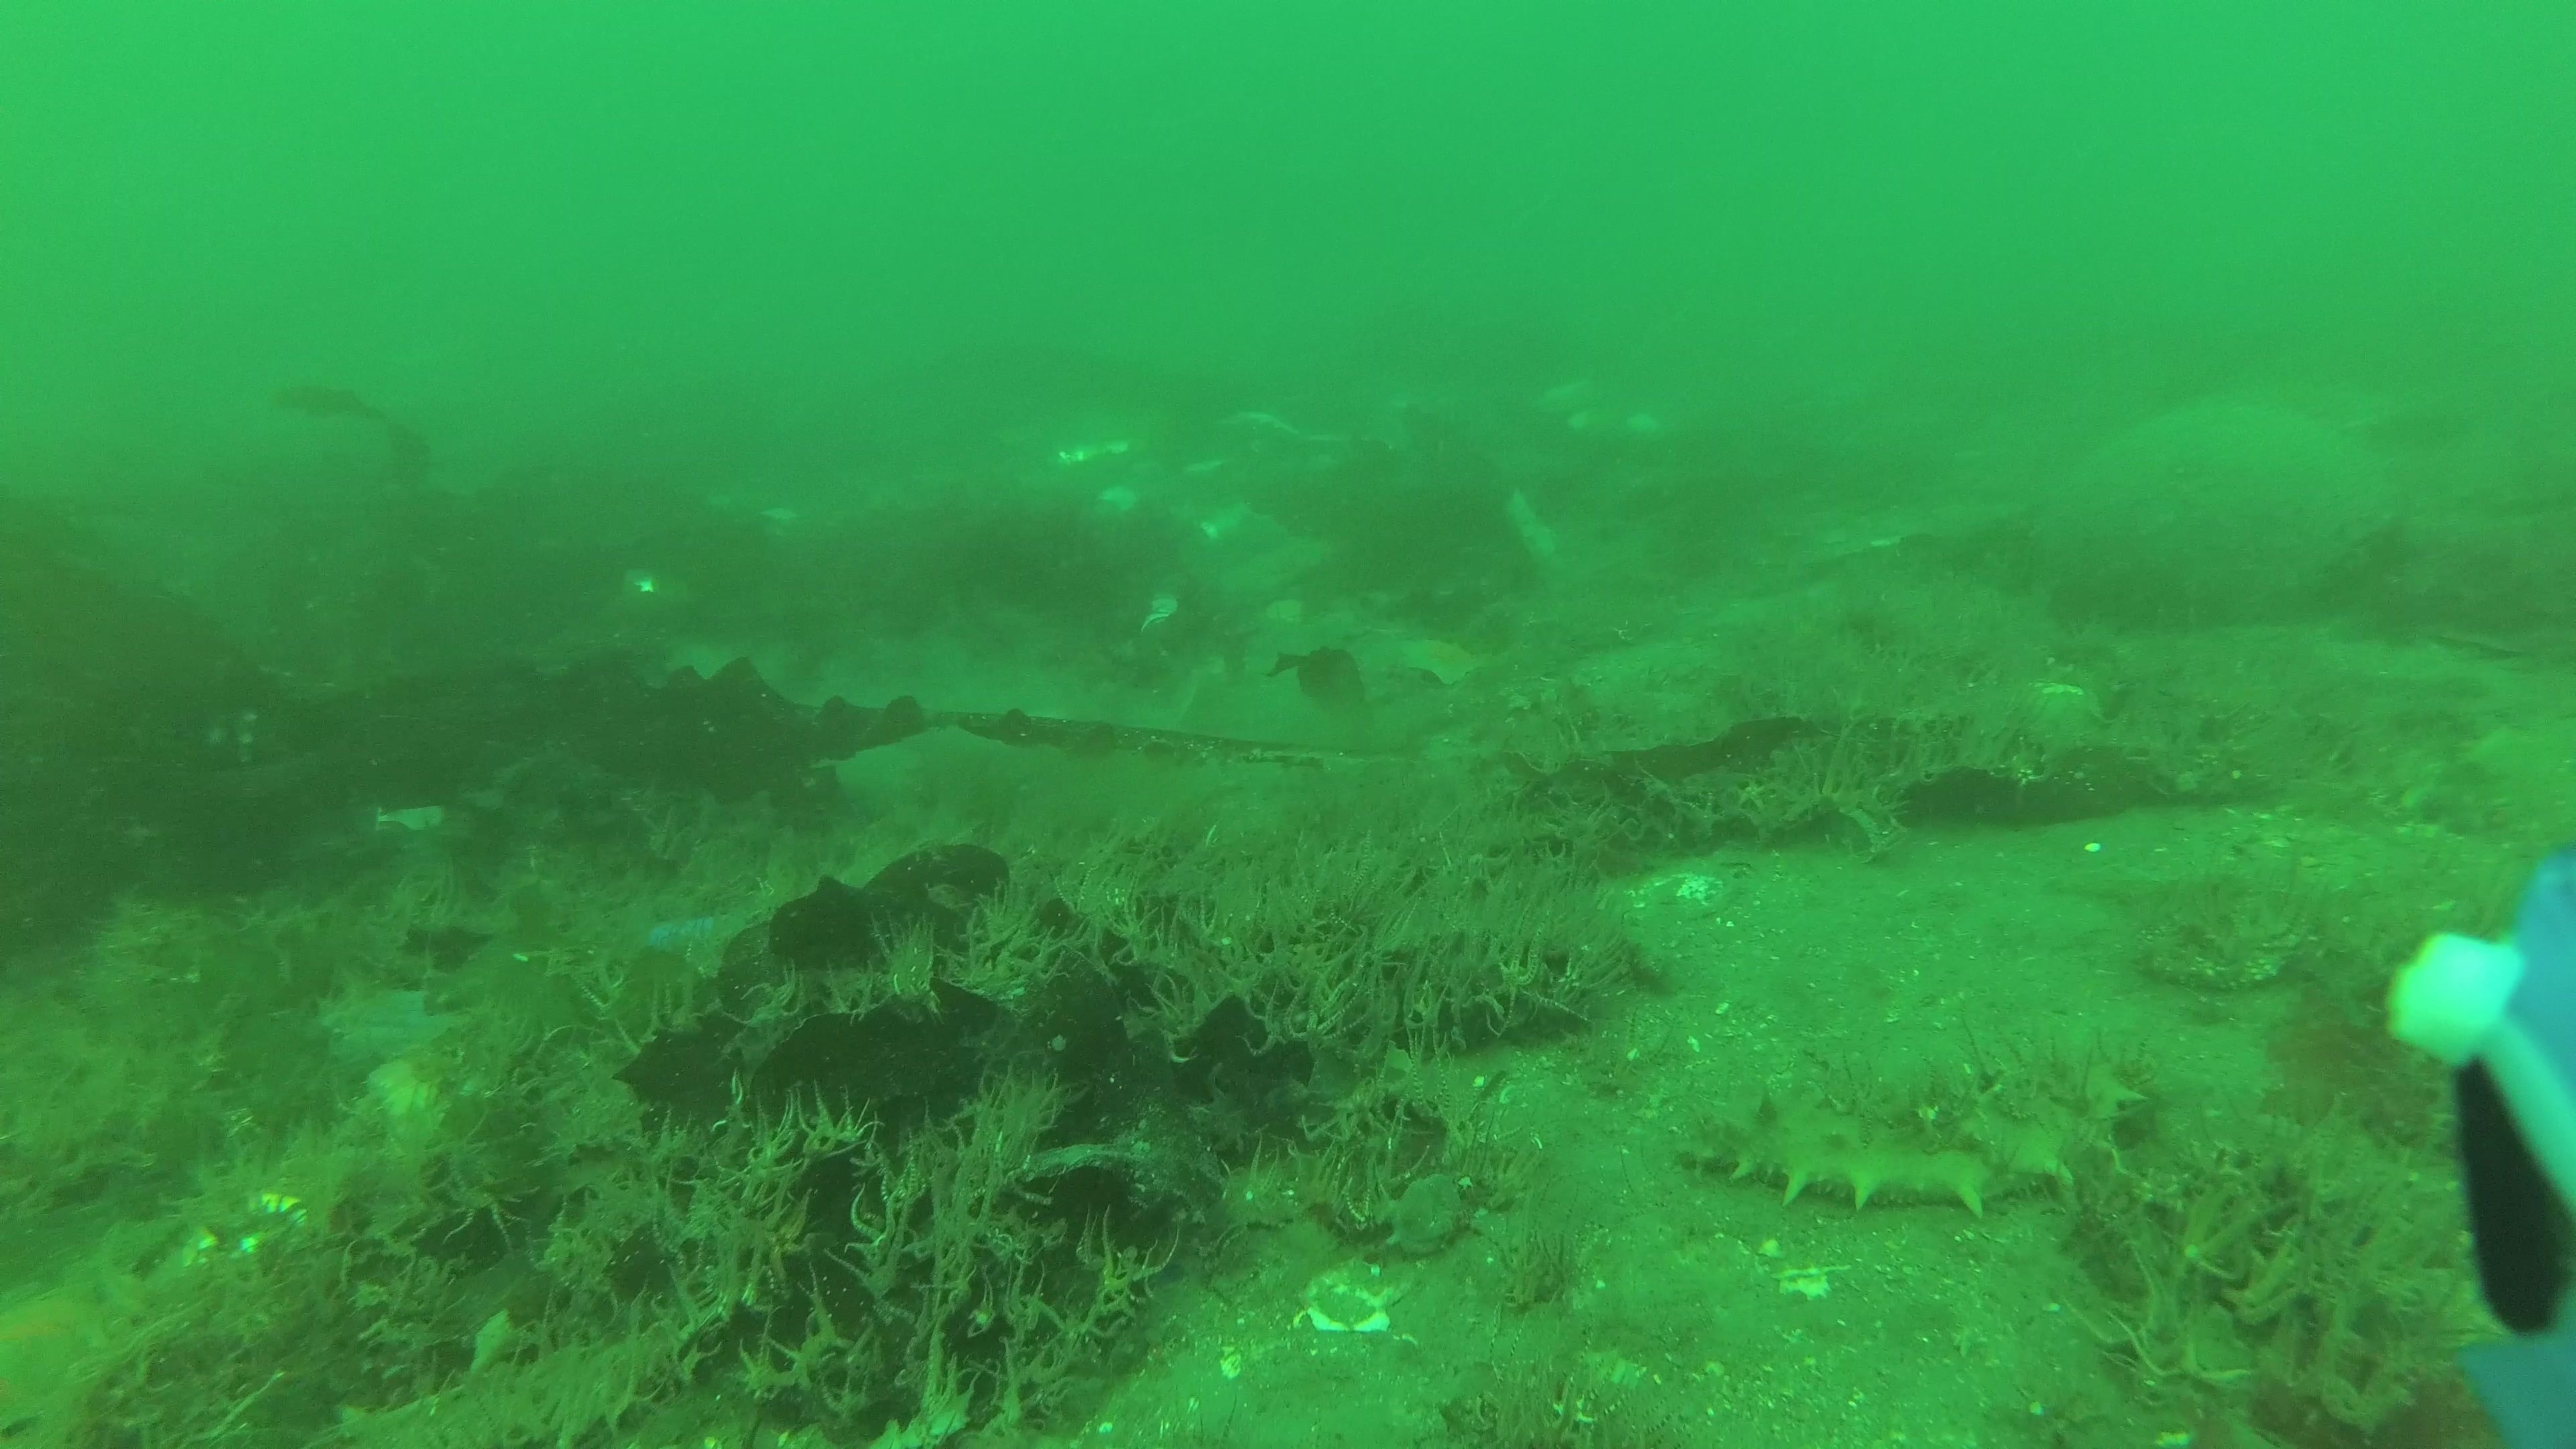holothurian: (1668, 1072, 2151, 1219)
scallop: (2144, 897, 2304, 987)
starfish: (0, 1284, 126, 1433), (1394, 635, 1479, 694)
